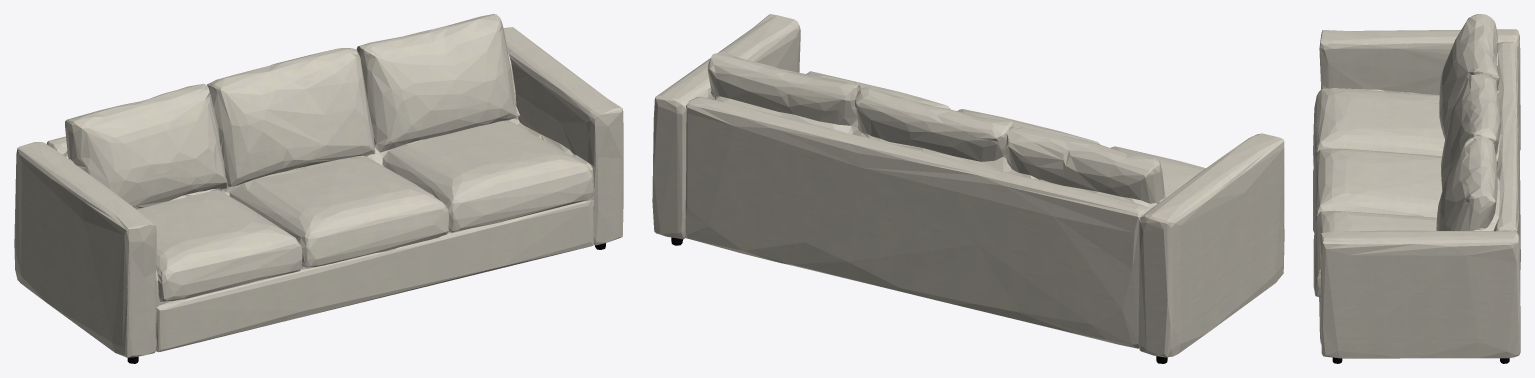
3 views of the same model, side by side, from view 1: azimuth 30°, elevation 25°; view 2: azimuth 150°, elevation 25°; view 3: azimuth 270°, elevation 25° (orthographic). The views are drawn at different scales.
Parts seen in each view (by area): view 1: ProcessedGeometry; view 2: ProcessedGeometry; view 3: ProcessedGeometry.
Part boxes in pixels (box(x1,y1,x2,y2)): ProcessedGeometry: box(14, 14, 623, 363); ProcessedGeometry: box(652, 14, 1284, 363); ProcessedGeometry: box(1313, 14, 1520, 363).
Size of the model in its own units: 2.41 by 0.83 by 0.98.
1 material, 1 textured.
